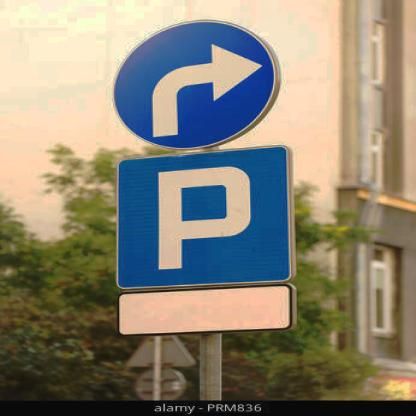Parking: (123, 157, 293, 284)
